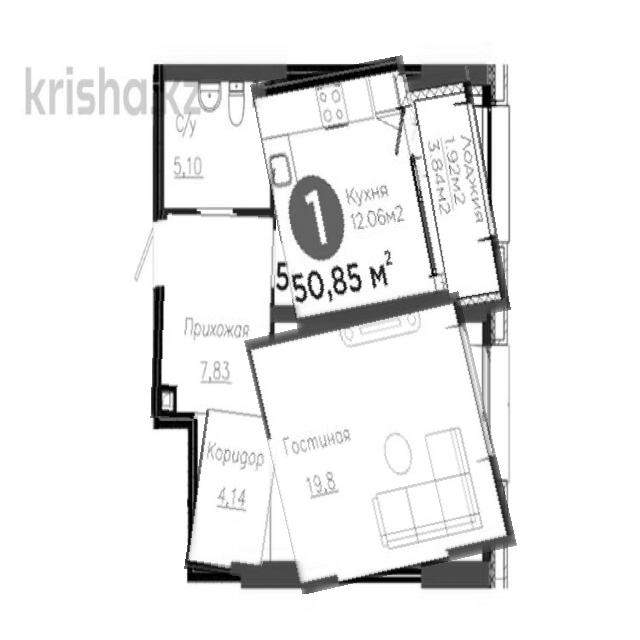balcony: (413, 68, 501, 320)
bathroom: (155, 73, 274, 210)
hallway: (152, 211, 275, 421), (190, 404, 278, 577)
kitchen: (262, 61, 439, 328)
living_room: (257, 301, 504, 584)
